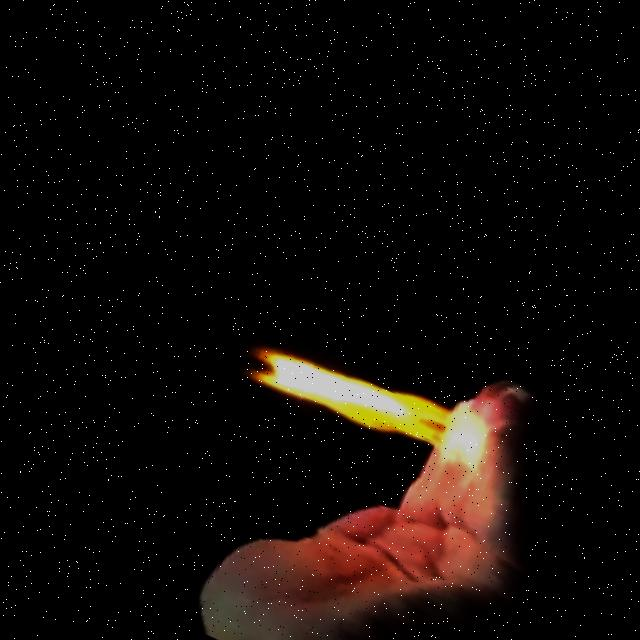Fire: (223, 305, 525, 496)
